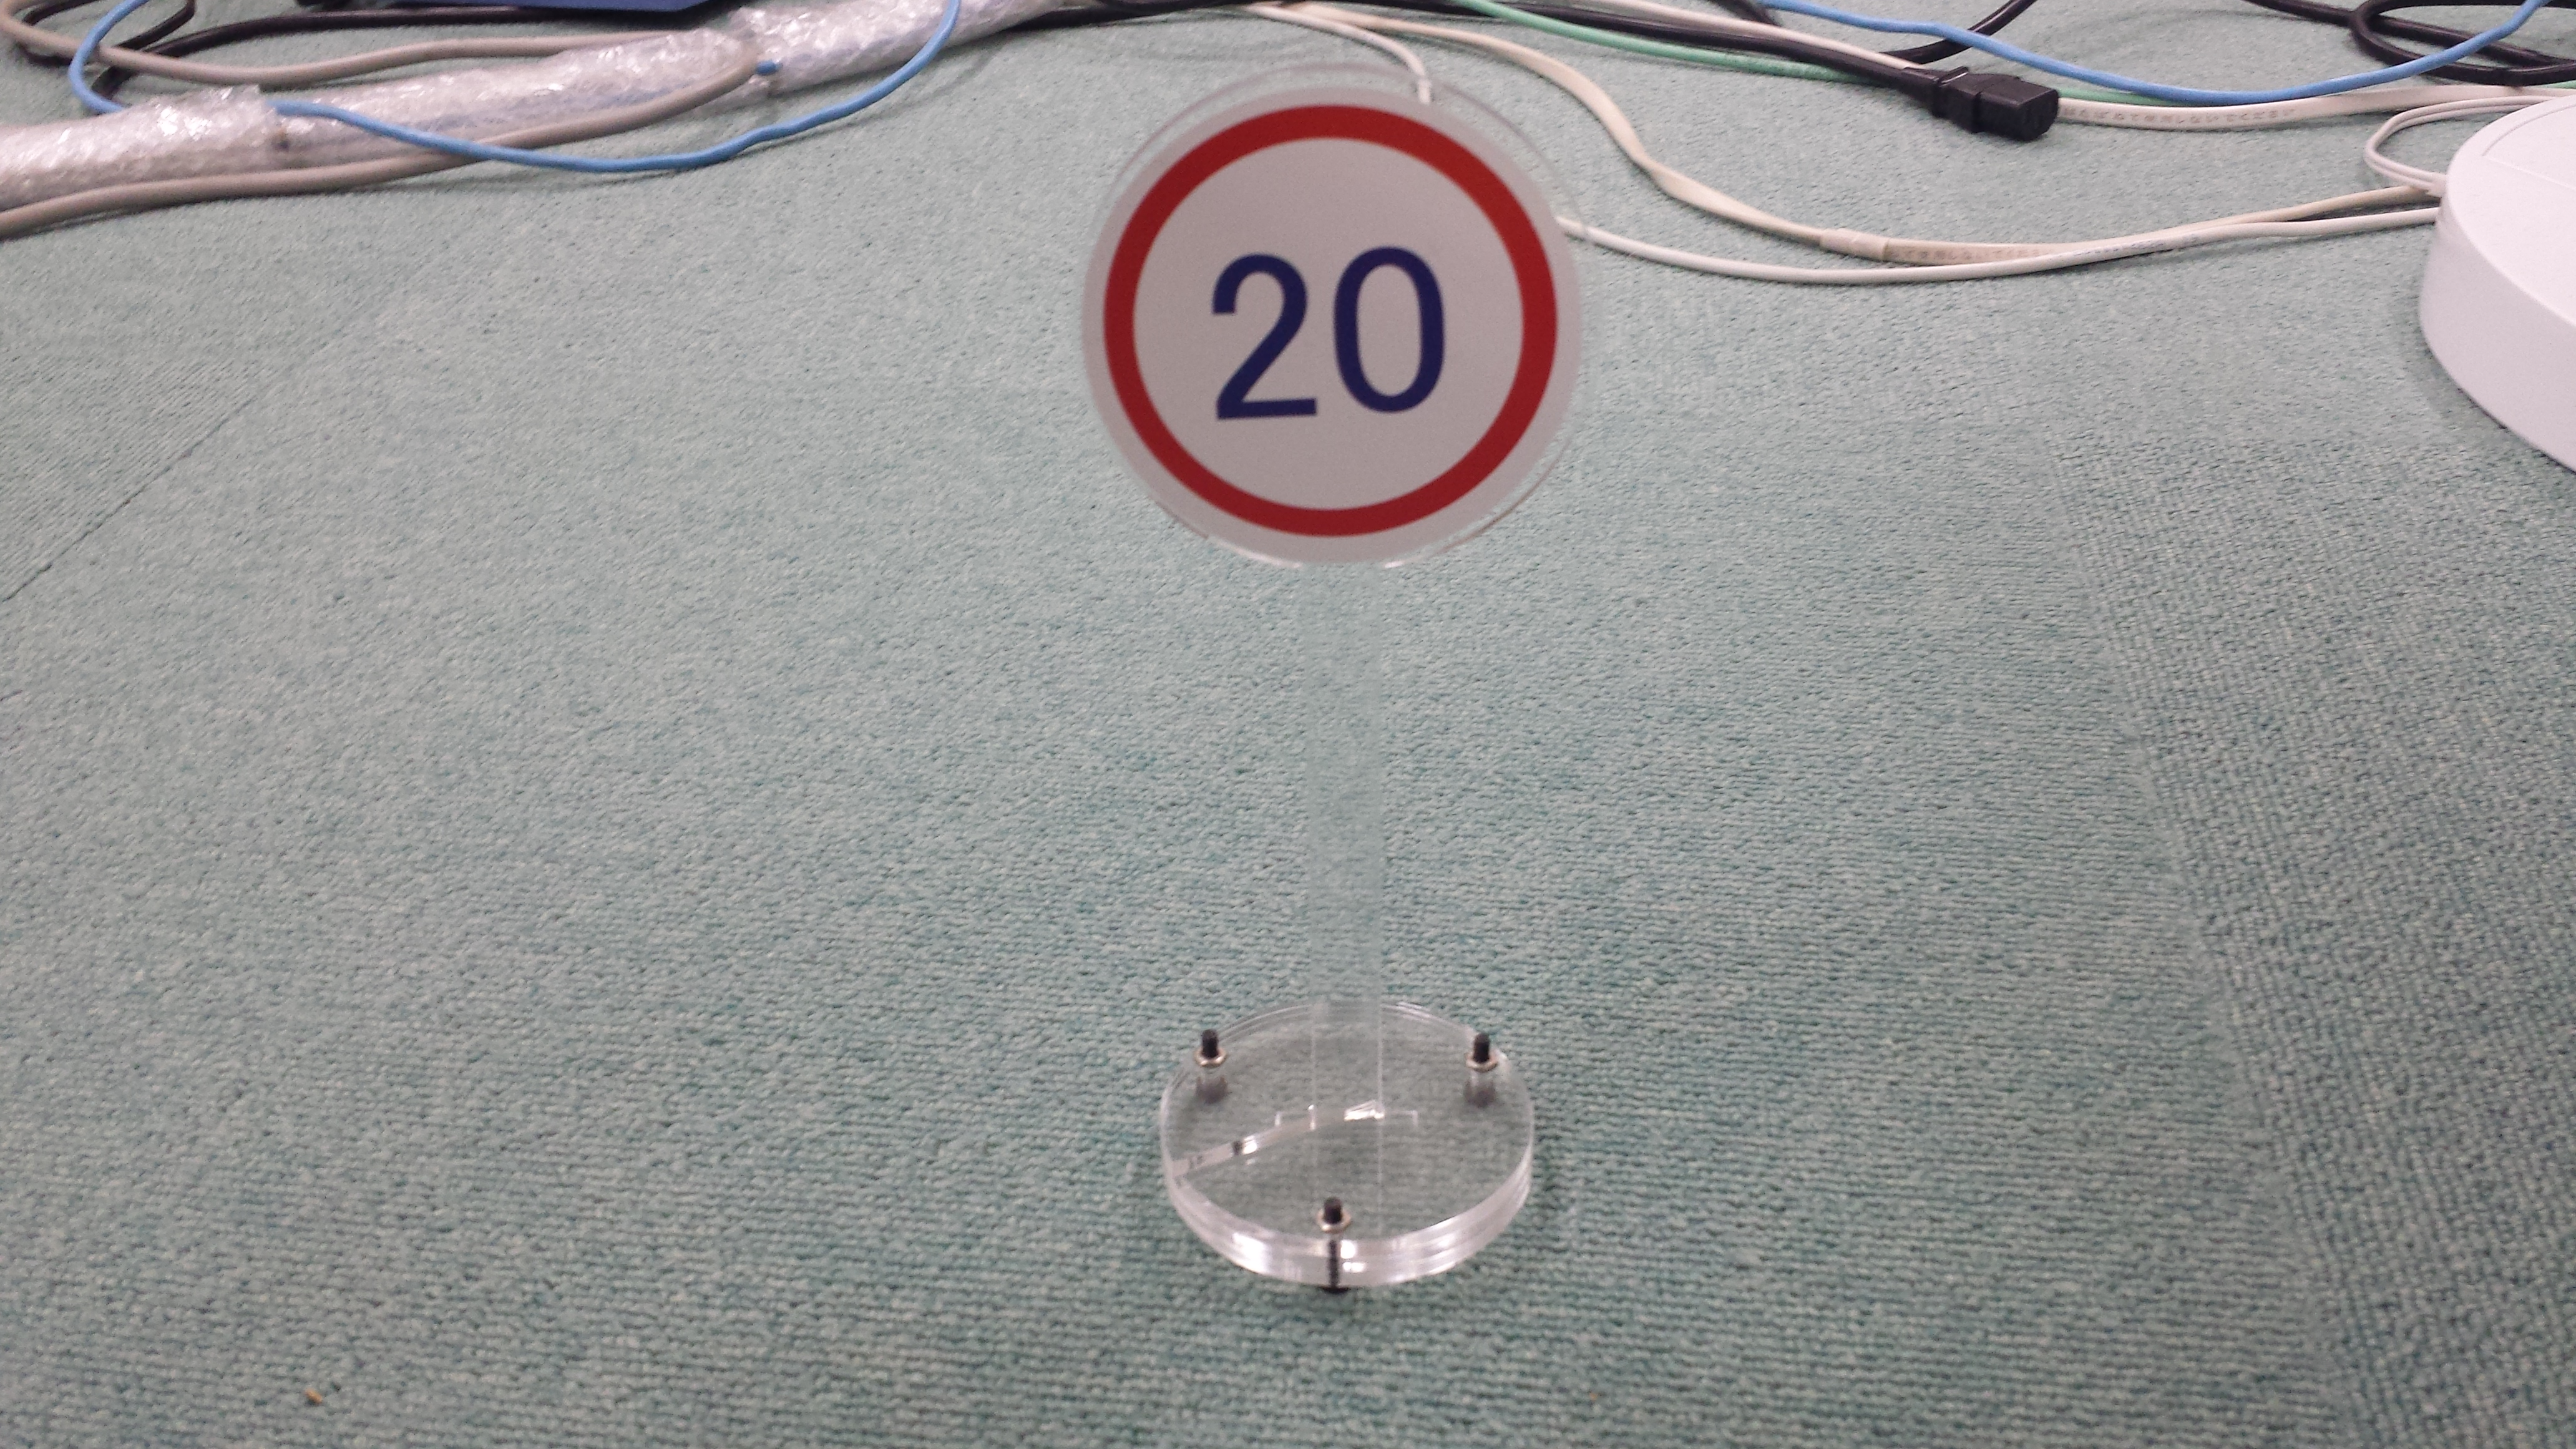speed_20: (1076, 67, 1585, 561)
